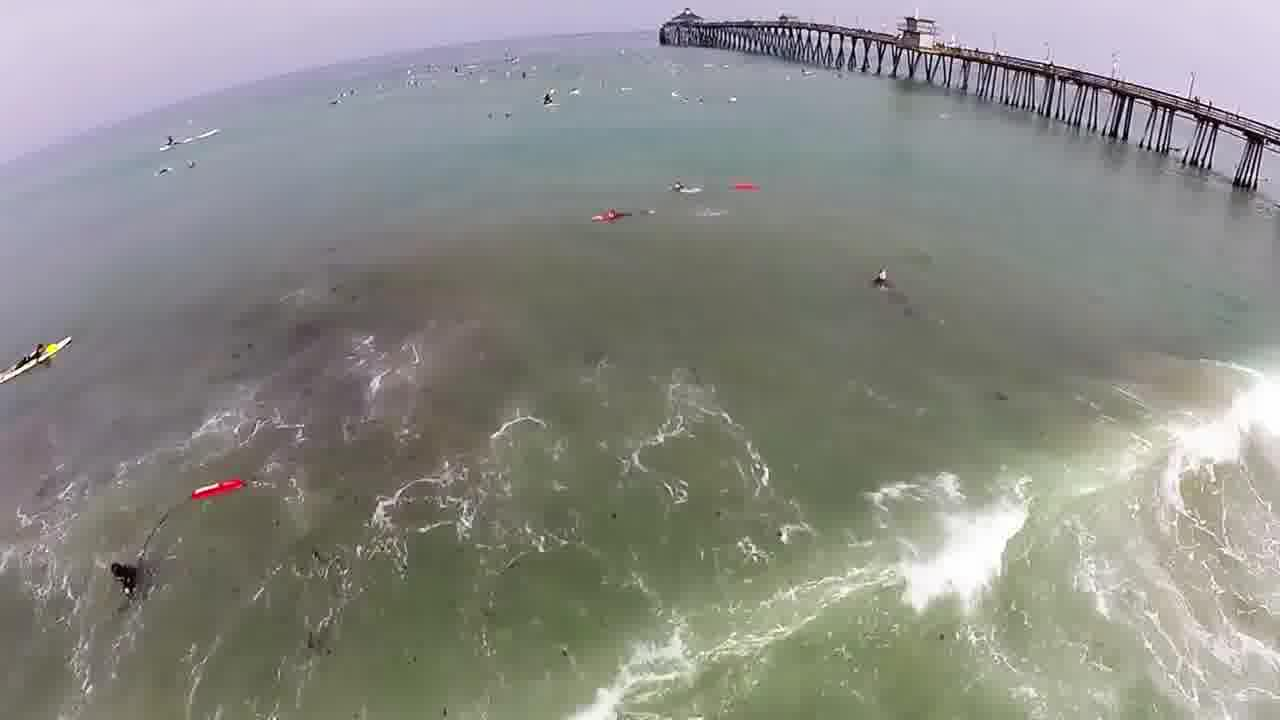swimmer: (96, 556, 145, 594), (863, 256, 902, 300), (594, 197, 628, 232), (663, 169, 693, 201)
